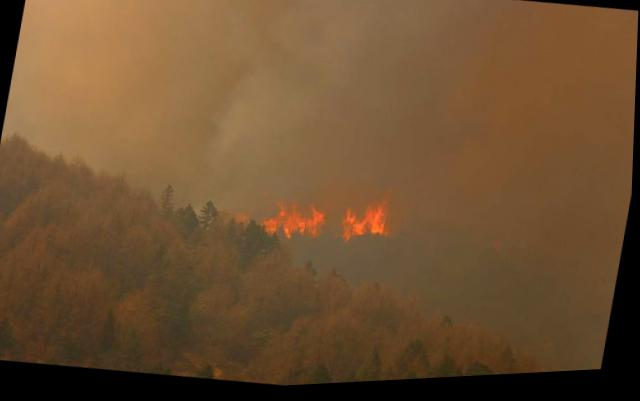fire: (236, 187, 329, 250), (338, 189, 397, 249)
